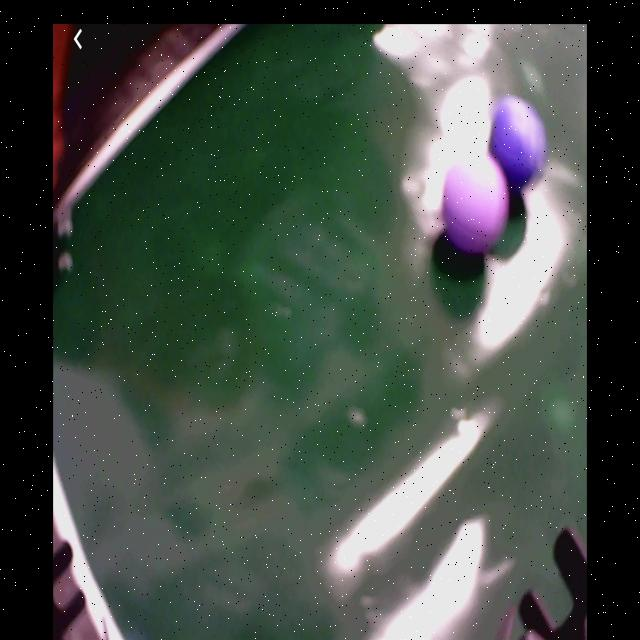ball: (443, 154, 511, 253), (486, 97, 547, 195)
